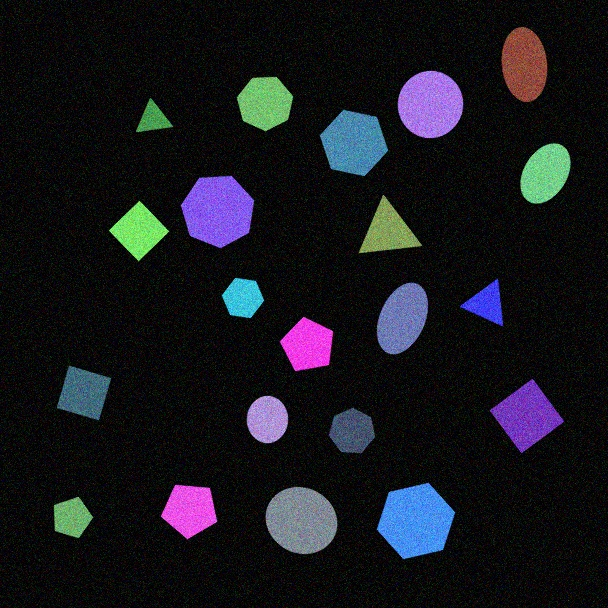Circulo: (265, 486, 338, 555), (397, 70, 464, 139), (246, 395, 289, 444)
Elipse: (376, 282, 429, 355), (501, 26, 548, 103), (520, 142, 571, 205)
Heptagono: (180, 175, 255, 249), (236, 76, 294, 132), (328, 407, 376, 454)
Hexagono: (376, 482, 456, 560), (319, 109, 389, 177), (221, 277, 265, 319)
Pentagono: (160, 484, 218, 540), (279, 316, 334, 372), (53, 496, 94, 539)
Quadrado: (489, 378, 565, 454), (108, 200, 170, 262), (56, 365, 112, 421)
Triangulo: (358, 195, 423, 254), (460, 278, 504, 327), (135, 98, 174, 133)
